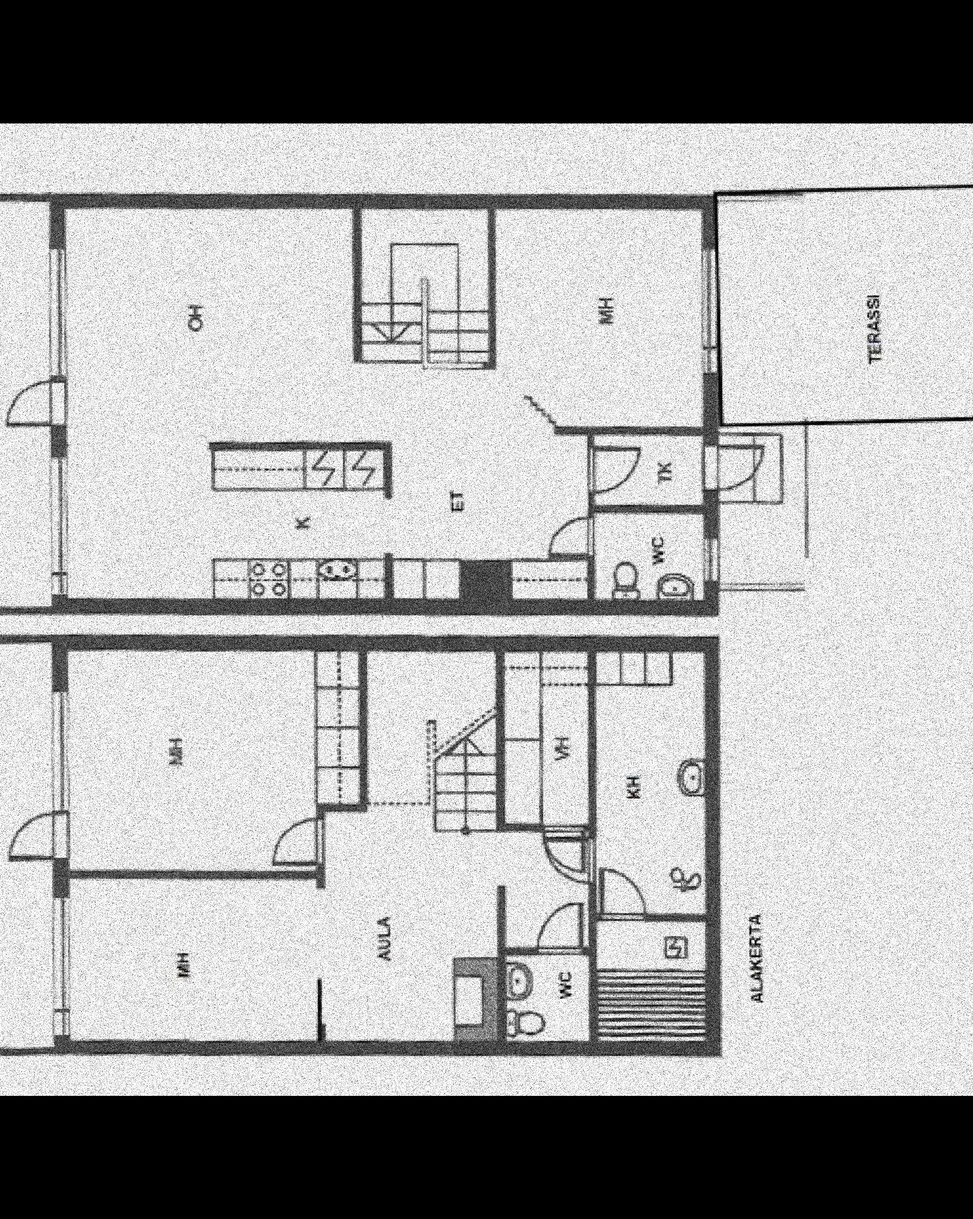door: (700, 444, 764, 497), (5, 378, 65, 427), (5, 815, 64, 863), (595, 869, 648, 921), (547, 821, 588, 883), (592, 444, 639, 495), (541, 901, 584, 955), (276, 815, 320, 865), (546, 518, 592, 558)
window: (49, 254, 67, 375), (49, 693, 67, 813), (54, 901, 69, 1038), (53, 460, 67, 592), (700, 254, 714, 373), (704, 545, 717, 580)
zone: (67, 213, 702, 599), (69, 653, 583, 1042), (721, 187, 973, 425), (64, 655, 314, 869), (594, 656, 702, 917), (0, 649, 51, 1050), (0, 196, 46, 607), (503, 655, 588, 823), (595, 925, 709, 1042), (720, 429, 804, 586), (598, 516, 701, 600), (592, 439, 701, 504), (503, 958, 583, 1042)
